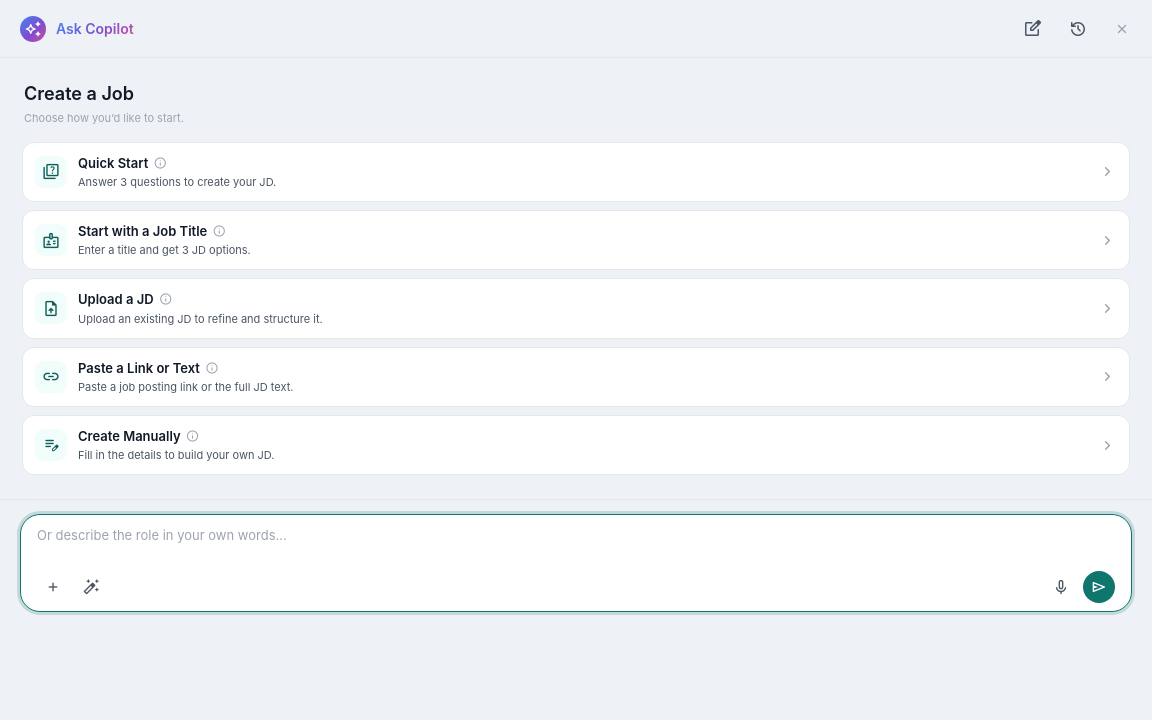
Copilot request failure recovery (#33) › AC-2/AC-3/AC-5: a failed request shows a plain-language card with Retry + Start over and keeps the input
This screenshot has width=1152, height=720.
Expected: the text "Quick Start" is shown, [78,154,169,172]
Type "Senior partner integrations engineer in Shanghai" into the text box with placeholder "Or describe the role in your own words…" at (576, 546), box [37,526,1115,565]
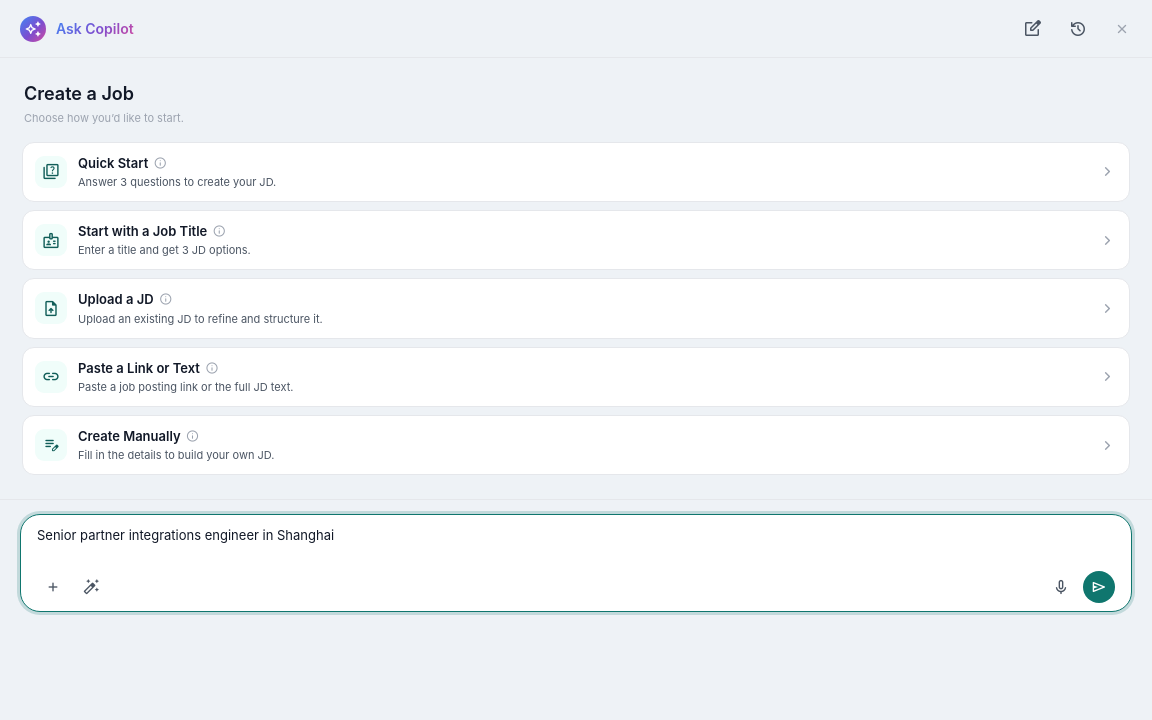
Click the button named "Send" at (1099, 587), box [1083,571,1115,603]
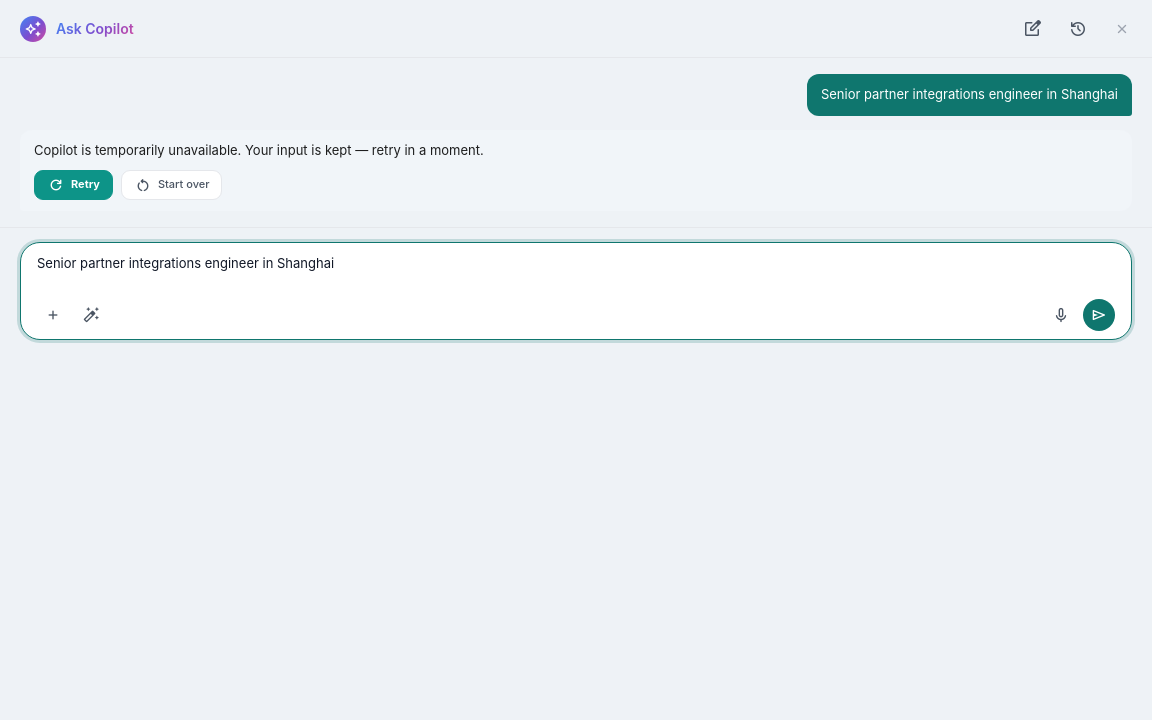
Now the message shows "Copilot is temporarily unavailable. Your input is kept — retry in a moment.", box [34,142,484,158]
Now the button "Retry" is shown, box [34,170,113,200]
Now the button "Start over" is shown
Click the button "Start over" at (172, 185), box [121,170,222,200]
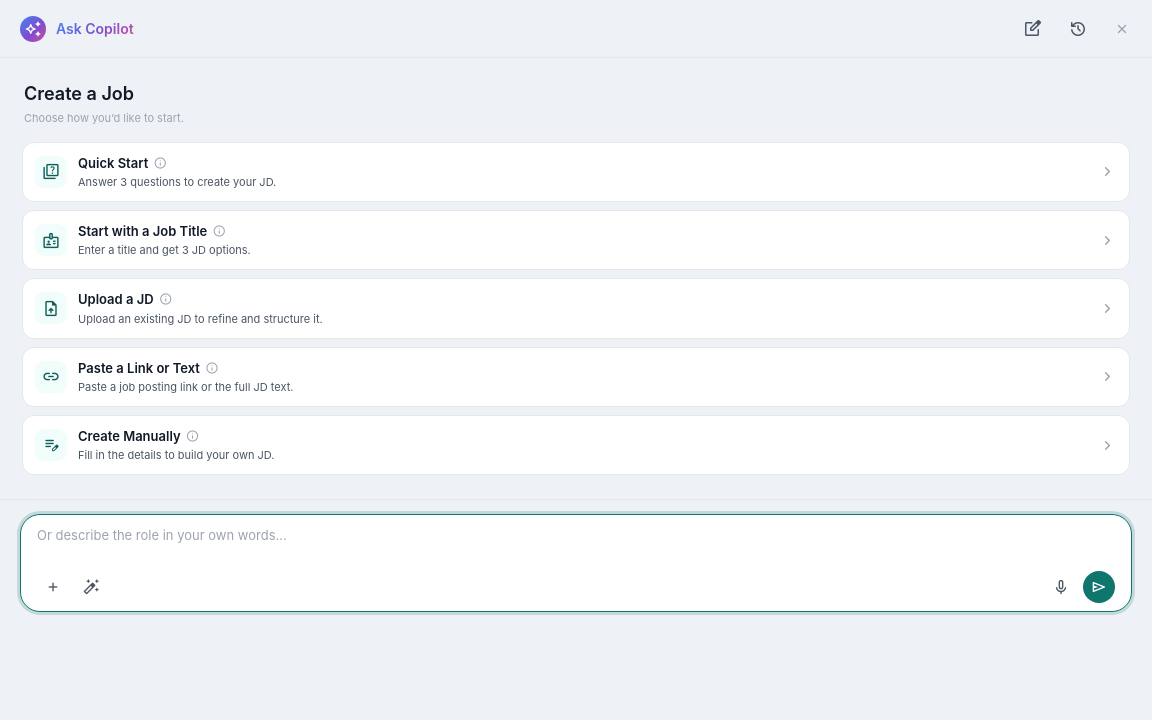
Now the message is gone
